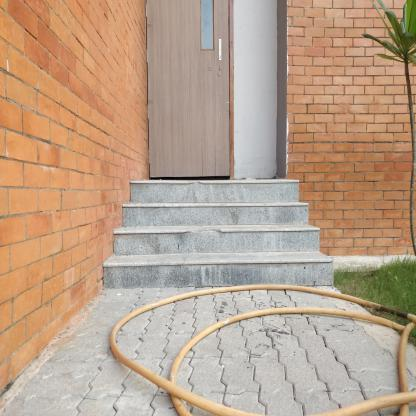stairs: (134, 202, 312, 297)
